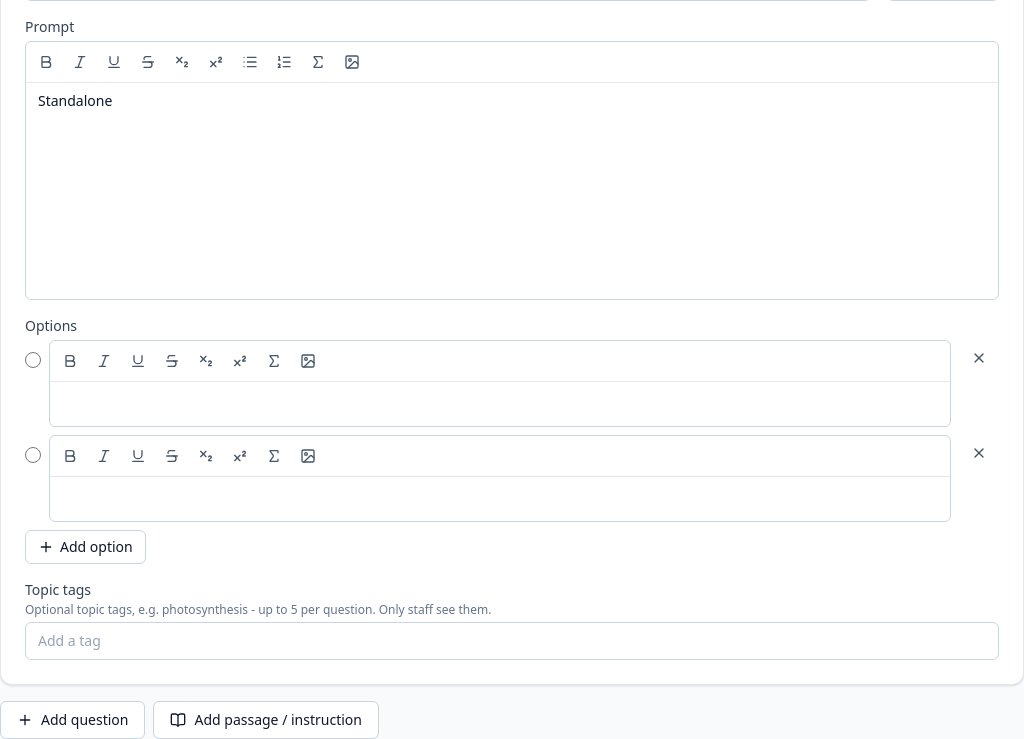
Test case: QuestionEditor passages (Phase 20L) › adds a passage with its own first question and links an existing question to it
The image size is (1024, 739).
(page scrolled)
Click the button "Add passage / instruction": (266, 720) [154,701,379,738]
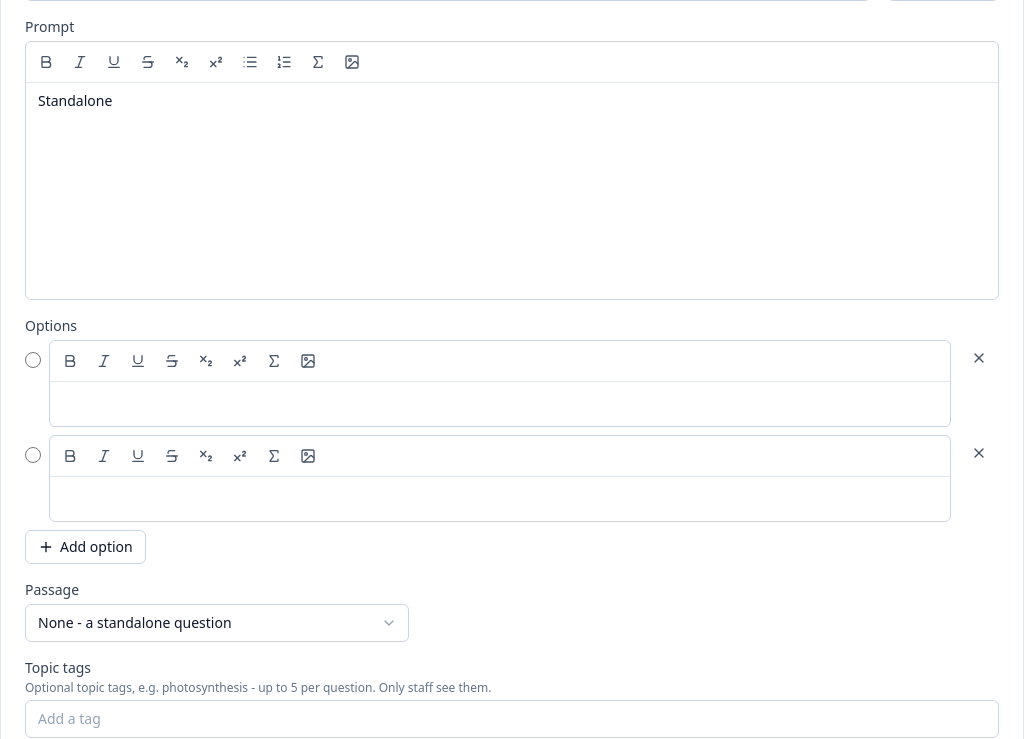
Select "Passage 1" in the dropdown labelled "Passage": (217, 623) [25,604,409,642]
(page scrolled)
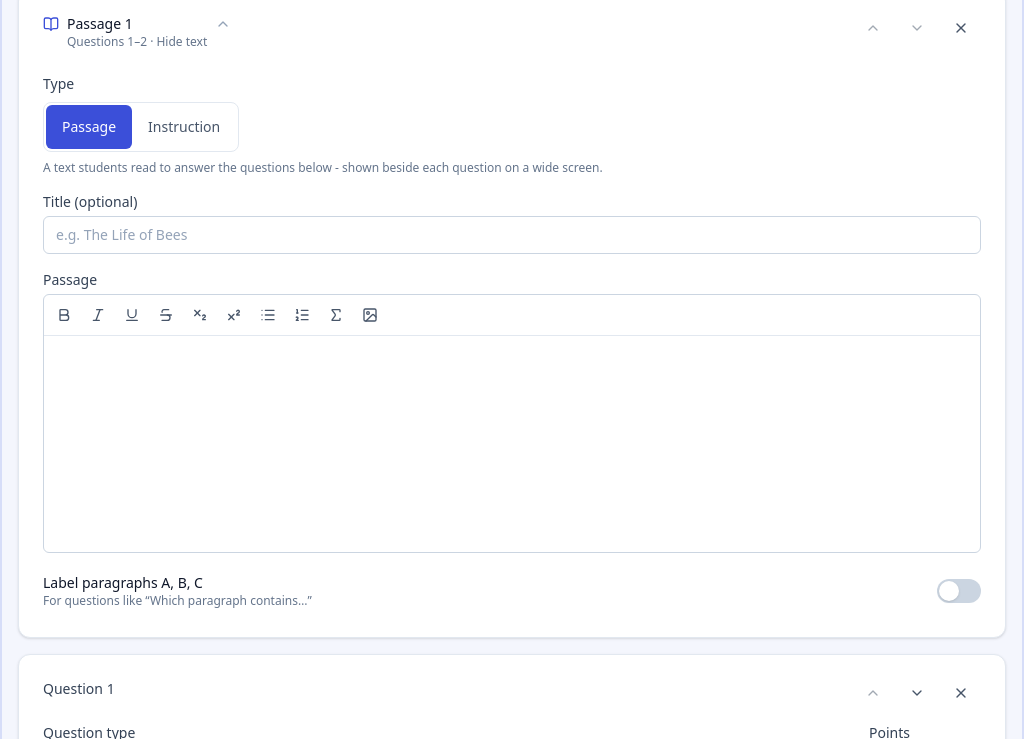
Result: the text "Questions 1–2 · Hide text" is shown at [67,34,207,50]
